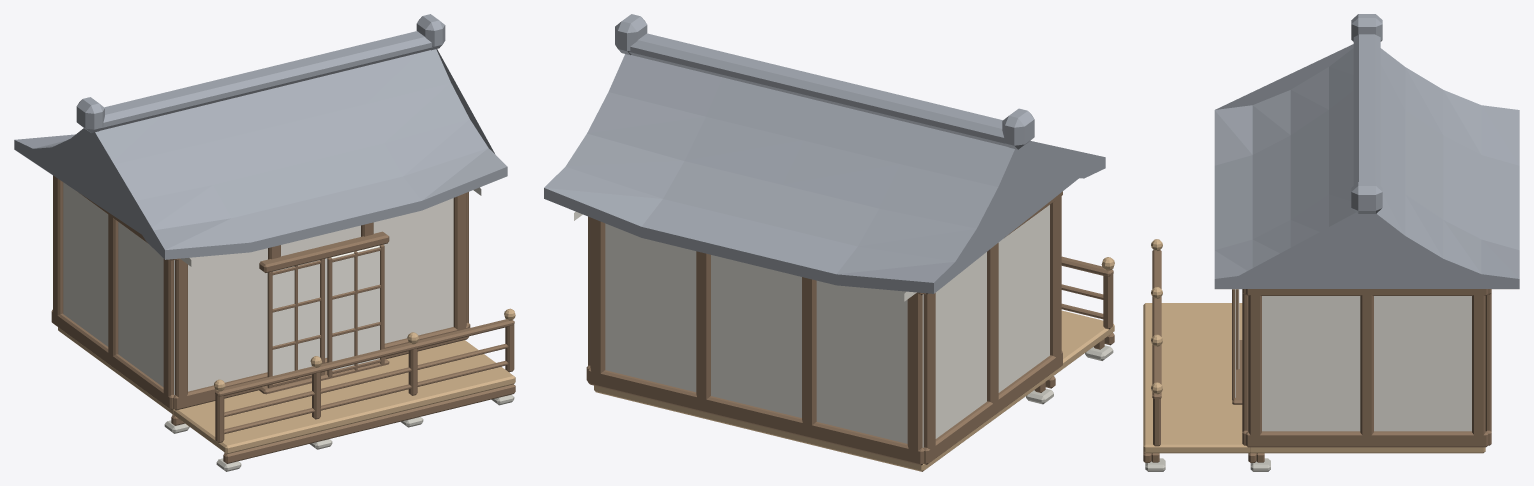
The model's file is 3dassets-feudal-japan-castle-town-tea-house-a168f962.glb.
3 renders of one model, left to right at view 1: azimuth 30°, elevation 25°; view 2: azimuth 150°, elevation 25°; view 3: azimuth 270°, elevation 25°, orthographic. The views are drawn at different scales.
Parts seen in each view (by area): view 1: tea-house; view 2: tea-house; view 3: tea-house.
Boxes of the visible parts, x1,y1,x2,y2 form: tea-house: (14,14,515,471); tea-house: (544,14,1114,471); tea-house: (1143,14,1519,471).
Size of the model in its own units: 6.2 by 4.91 by 5.55.
